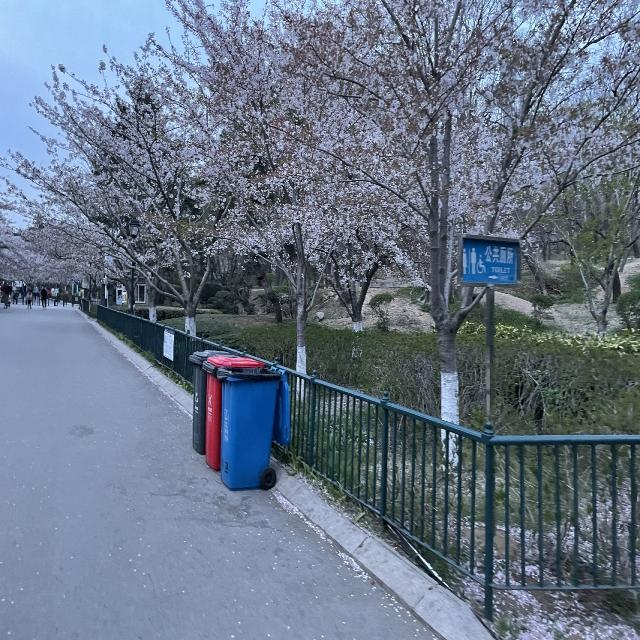garbage_bin: (218, 365, 284, 488), (201, 355, 264, 472), (186, 348, 226, 454)
